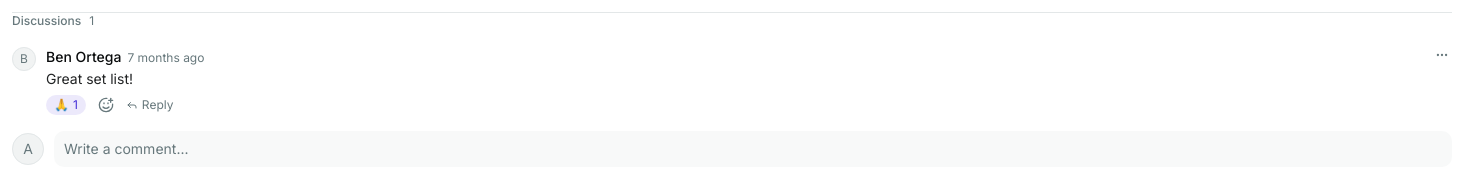
Test: LineupDiscussion › disables the reaction picker and pills while a reaction is in flight
Expected: the text "Great set list!" is shown, [46, 70, 133, 87]
Click the button "🙏 1": (66,105) [46, 95, 86, 115]
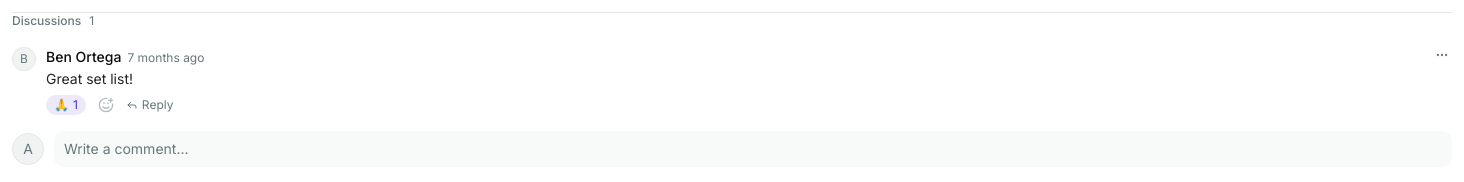
Expected: the button named "Add reaction" is disabled, [98, 97, 114, 113]
